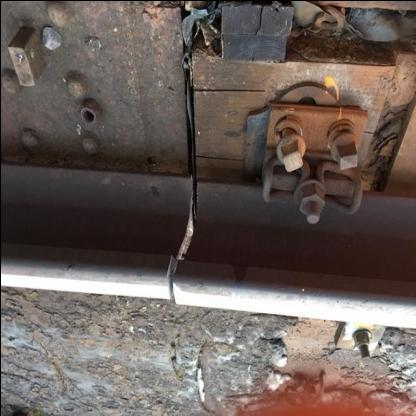Defective: (11, 152, 349, 342)
